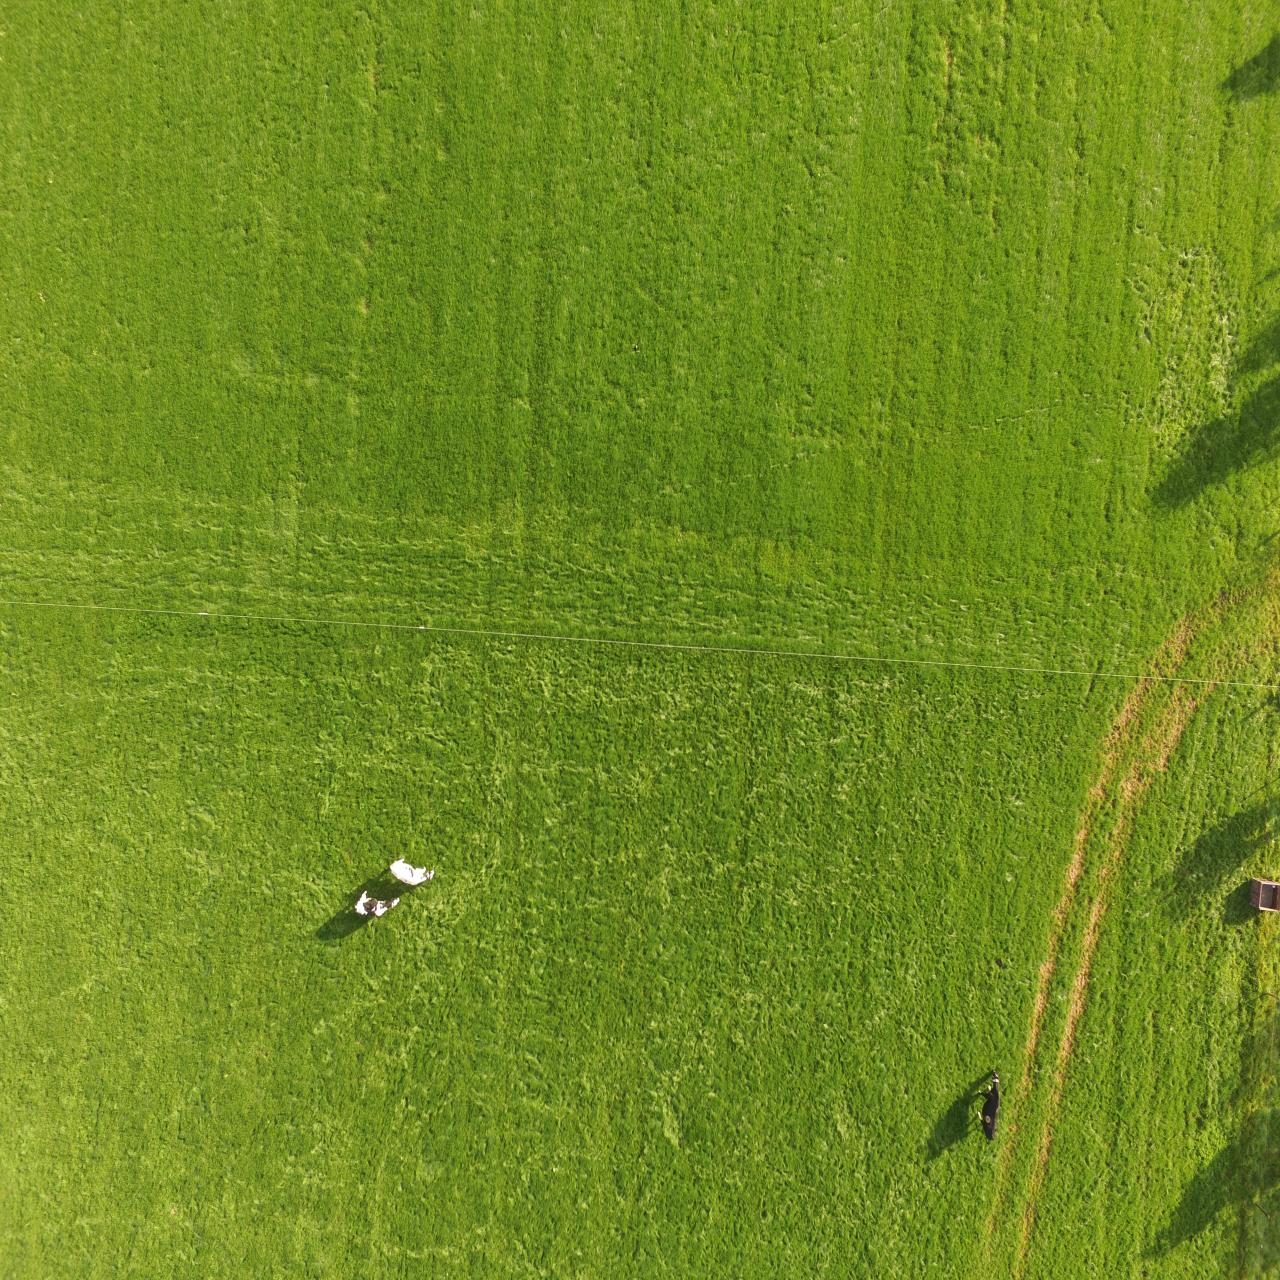cow: (976, 1068, 1002, 1142), (387, 855, 442, 887), (354, 888, 401, 919)
